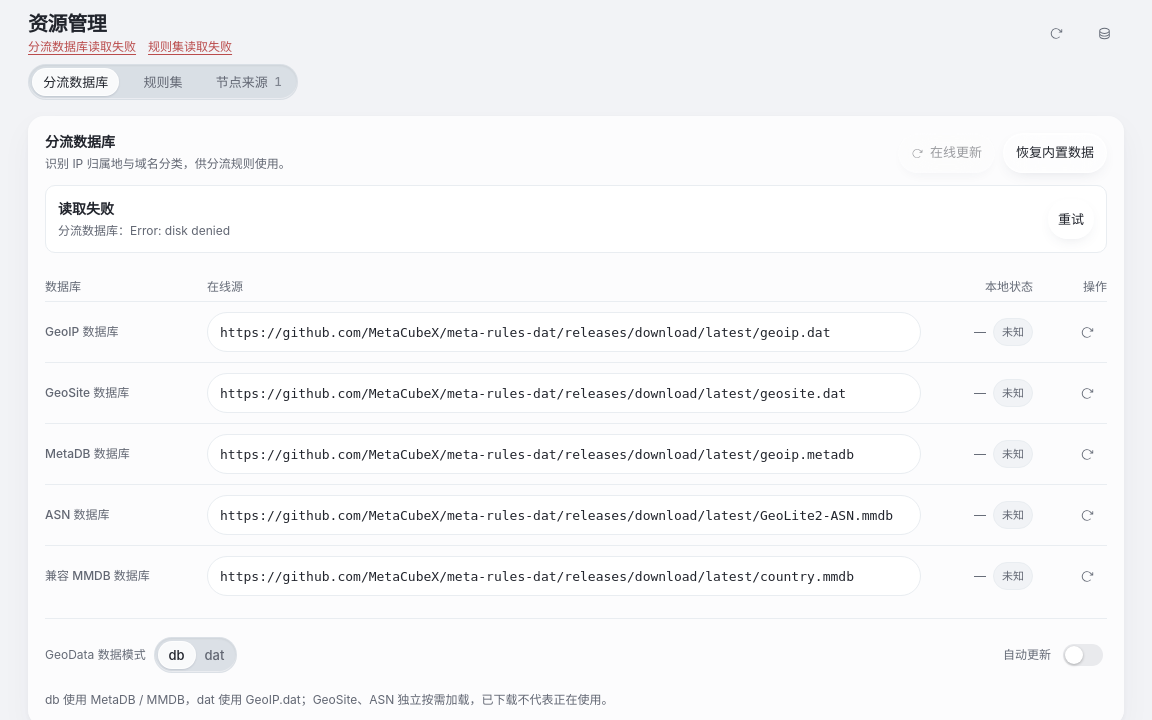
Scenario: 资源读取分别失败仍保留成功列表，失败不伪装空数据
The image size is (1152, 720).
Click the tab "规则集" at (163, 82), box [119,68,207,96]
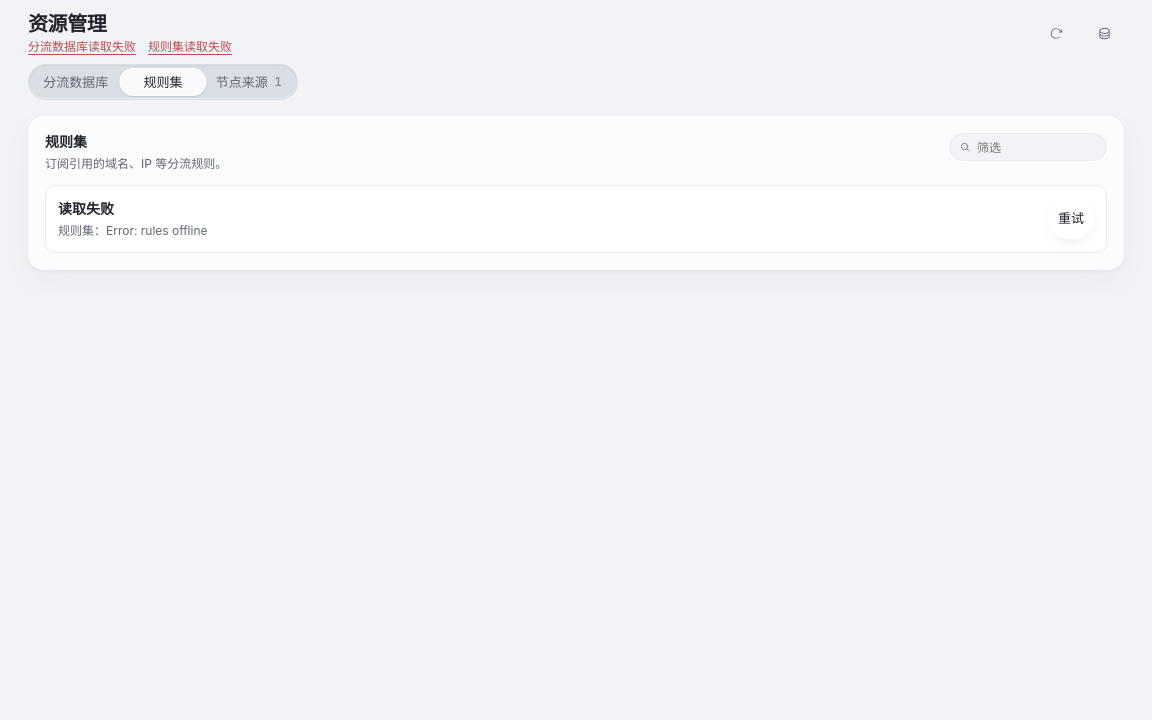
Now the text "rules offline" is shown, box [58,223,208,238]
Click the tab "节点来源 1" at (250, 82), box [207,68,294,96]
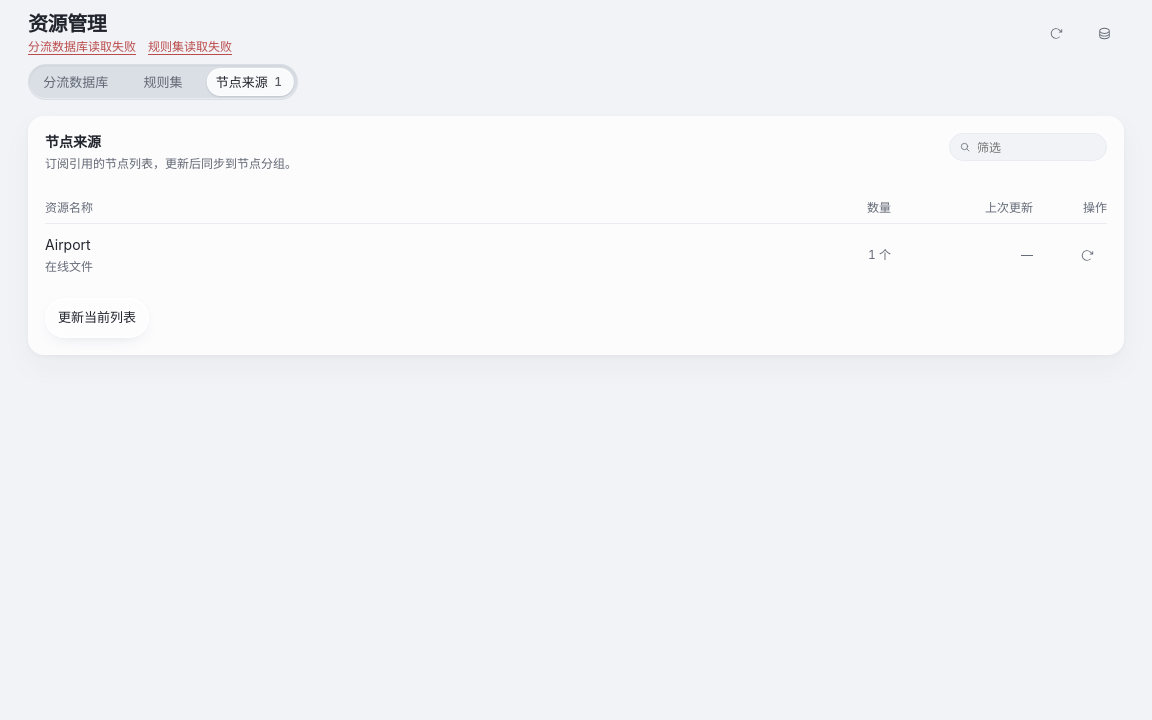
Now the text "Airport" is shown, box [45,234,91,255]
